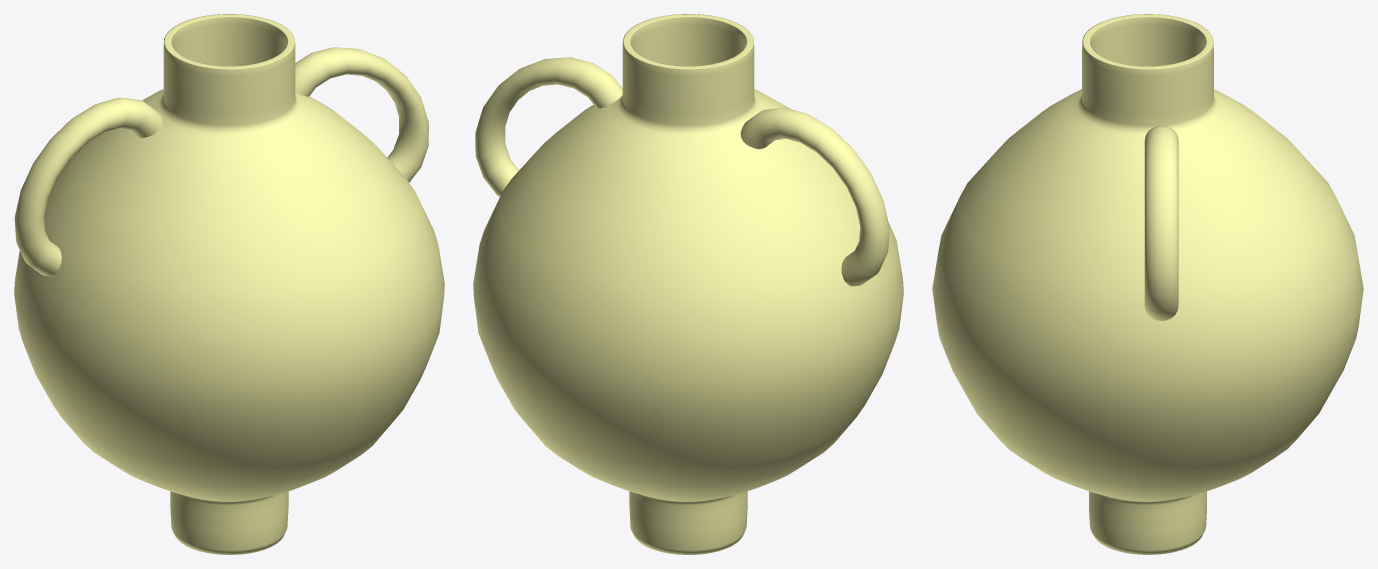
The model's file is Renai_Vase1.fbx.
The picture shows the model from 3 angles, left to right: view 1: azimuth 30°, elevation 25°; view 2: azimuth 150°, elevation 25°; view 3: azimuth 270°, elevation 25°; orthographic projection.
Parts seen in each view (by area): view 1: vaseBase, vaseHandle, vaseHandle1; view 2: vaseBase, vaseHandle, vaseHandle1; view 3: vaseBase, vaseHandle1.
Boxes of the visible parts, left/top/right/bottom form: vaseBase: left=14, top=14, right=444, bottom=554; vaseHandle: left=14, top=97, right=162, bottom=276; vaseHandle1: left=295, top=47, right=428, bottom=182; vaseBase: left=473, top=14, right=903, bottom=554; vaseHandle: left=740, top=107, right=889, bottom=286; vaseHandle1: left=475, top=57, right=622, bottom=196; vaseBase: left=932, top=14, right=1363, bottom=554; vaseHandle1: left=1144, top=125, right=1178, bottom=320.
Size of the model in its own units: 1.09 by 1.24 by 0.9931.
1 material, 1 textured.
